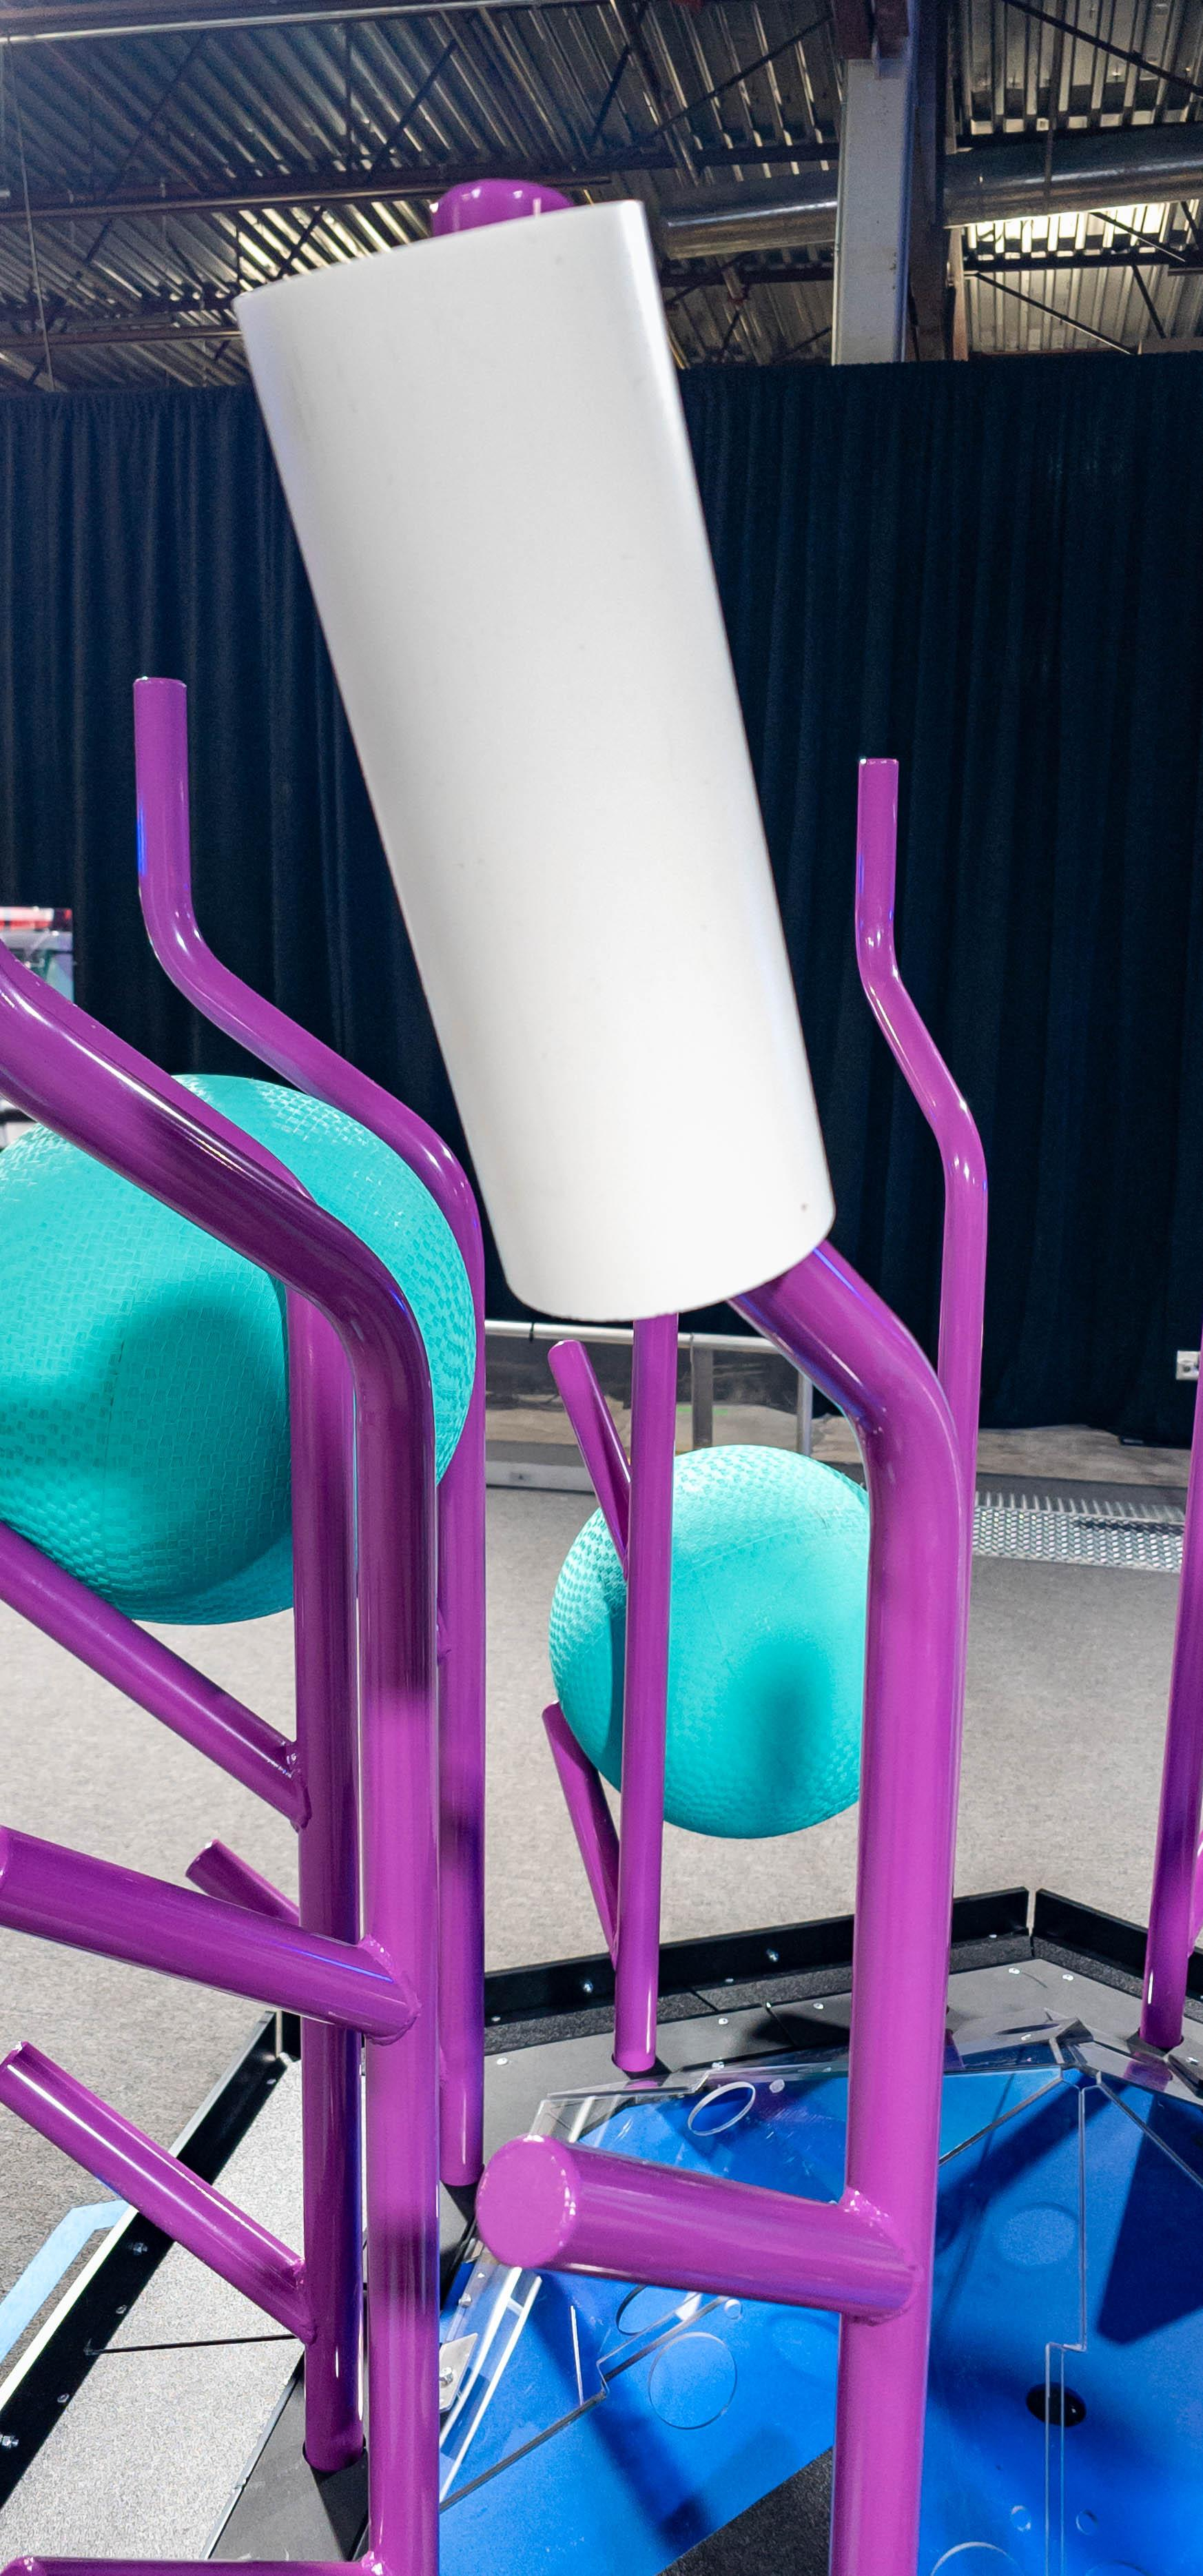ALGAE: (0, 1074, 475, 1626), (554, 1444, 868, 1840)
CORAL: (238, 200, 837, 1319)
